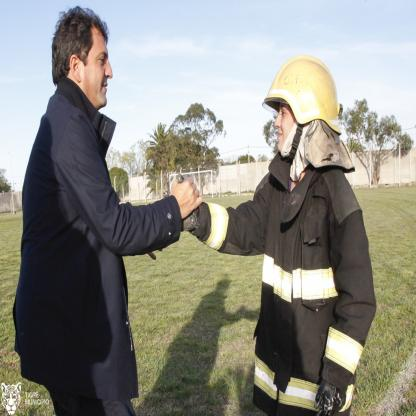Helmet: (264, 54, 354, 188)
